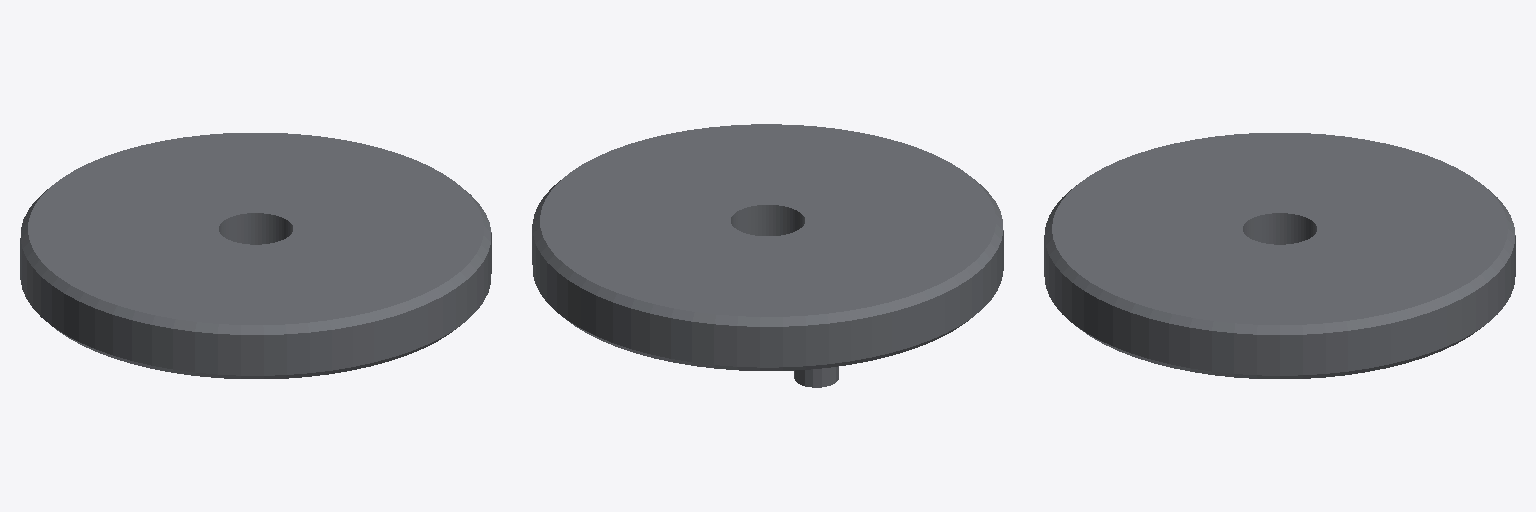
robot.urdf — flange_plate_ecbpi:
<?xml version="1.0"?>
<!--
  Flange Plate (ECBPi): ロボットフランジと Schmalz CobotPump ECBPi を繋ぐアダプタ
  プレートの自作アセット (CC0-1.0)。

  ============================================================================
  参照実機: **Schmalz ROB-SET ECBPi** に同梱されるフランジプレート
    https://www.universal-robots.com/plus/products/schmalz/ecbpi-cobotpump/
    ("flange plate suited for all UR3 / UR5 / UR10" として ROB-SET に含まれる)
  ============================================================================

  ECBPi の取付は **3 x M4 / ボルト円 ø46** で ISO 9409-1 ではないため、
  ロボットフランジへ直付けできない。実機でも Schmalz がロボット別のフランジ
  プレートを別売/同梱しており、**このプレートを別アセットにするのが実機どおりの解**。
  カタログ側で ECBPi のインタフェースを ISO へ描き替えることはしない。

  **両側のインタフェースは公開データで確定している**:
    - ロボット側 = **ISO 9409-1-50-4-M6** (公開規格。外径 63 / ボルト円 50 x 4-M6 /
      位置決め径 31.5 / ダウエル 6)。OMRON i837 (Techman TM5) のフランジ図と一致確認済み
    - ツール側 = **3 x M4 / ボルト円 ø46** (ECBPi 取説 §4.5 の Dmk1 / G1)

  **設計値 (公開データが無い部分)**: 板厚 8 mm と外径 ø63。ROB-SET のプレート単体の
  寸法は公開されていないため、外径は ISO 呼び 50 のフランジ外径に合わせ、板厚は
  M4/M6 の座ぐりが成立する最小厚とした。**この 2 つだけが当方の設計値**。

  注記: ISO の M6 穴 (P.C.D 50) と ECBPi の M4 穴 (P.C.D 46) は半径がほぼ重なるので、
  角度をずらして逃がしてある (M6 = 0/90/180/270 度、M4 = 45/165/285 度)。
  実機のアダプタプレートも同じ制約を抱える箇所。

  座標系 (botrail カタログ規約): Z-up / メートル。root リンク mount = ロボット
  フランジ接触面 (+Z がツール側)。flange = ECBPi が載る面 (z = 8 mm)。

  visual: tools/generate_meshes.py が生成する ../meshes/plate.stl (手続き的著作)
  collision: URDF プリミティブのみ (板 + スピゴット)。ダウエルピンとボルトは
          相手側の穴に入る消耗形状なので collision に出さない
-->
<robot name="flange_plate_ecbpi">

  <link name="mount"/>

  <link name="body">
    <!--
      色: STL は材質を持てないので外観はここで述べる。述べないと消費側は
      リンクを既定パレットで塗る (studio は 8 色循環) — 機械加工のアダプタ
      プレートが毎回違う色になる。素の機械加工アルミ (アルマイト無し) の
      落ち着いた地色を著作する。数値は **linear** で渡る (botrail は URDF の
      <color rgba> をそのまま Shape.color に載せ、studio は LinearSRGB として
      読む)。sRGB の見た目で約 0.72 相当。
    -->
    <visual>
      <geometry>
        <mesh filename="../meshes/plate.stl"/>
      </geometry>
      <material name="machined_aluminium">
        <color rgba="0.47 0.48 0.50 1.0"/>
      </material>
    </visual>

    <collision><!-- plate, ISO 9409-1 OD ø63 x 8 -->
      <origin xyz="0 0 0.004"/>
      <geometry><cylinder radius="0.0315" length="0.008"/></geometry>
    </collision>
    <collision><!-- ISO 9409-1 pilot spigot ø31.5 (seats in the robot flange bore) -->
      <origin xyz="0 0 -0.0025"/>
      <geometry><cylinder radius="0.01575" length="0.005"/></geometry>
    </collision>

    <!-- 質量 0.06 kg (ø63 x 8 のアルミ板 - 穴分)。慣性は中実円柱近似 -->
    <inertial>
      <origin xyz="0 0 0.004"/>
      <mass value="0.06"/>
      <inertia ixx="1.520e-5" ixy="0.0" ixz="0.0" iyy="1.520e-5" iyz="0.0" izz="2.977e-5"/>
    </inertial>
  </link>

  <!-- ECBPi の取付面 (3 x M4 / ボルト円 ø46) -->
  <link name="flange"/>

  <joint name="body_joint" type="fixed">
    <parent link="mount"/>
    <child link="body"/>
  </joint>

  <joint name="flange_joint" type="fixed">
    <origin xyz="0 0 0.008"/>
    <parent link="body"/>
    <child link="flange"/>
  </joint>

</robot>

--- What the picture shows (computed from the rendered views, not written in the file) ---
3 views of the same robot in one strip: view 1: azimuth 30°, elevation 25°; view 2: azimuth 150°, elevation 25°; view 3: azimuth 270°, elevation 25° (orthographic).
Model flange_plate_ecbpi with 3 links and 2 joints (2 fixed), rooted at mount, posed every joint at zero.
Visible links, largest first — view 1: body; view 2: body; view 3: body.
Link boxes in pixels (x1,y1,x2,y2): body: [20, 133, 491, 378]; body: [532, 124, 1003, 387]; body: [1044, 133, 1515, 378].
Bounding box of the posed robot: 0.063 × 0.063 × 0.013 m (x, y, z).
1 mesh visuals loaded from 1 distinct referenced files (1 binary STL).
